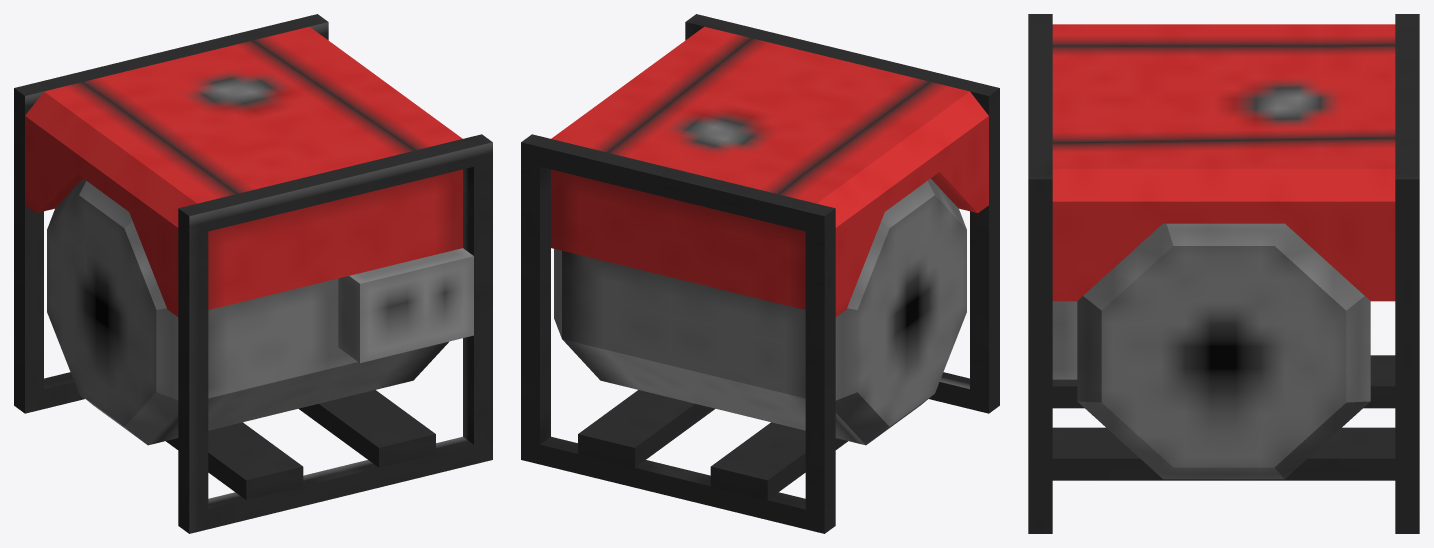
The model's file is liquid_compressor.obj.
3 views of the same model, side by side, from view 1: azimuth 30°, elevation 25°; view 2: azimuth 150°, elevation 25°; view 3: azimuth 270°, elevation 25° (orthographic). The views are drawn at different scales.
Visible parts, largest first — view 1: Tank, Frame, Gen, Box; view 2: Tank, Frame, Gen; view 3: Tank, Gen, Frame, Box.
Boxes of the visible parts, bbox=[...] form: Tank: bbox=[25, 26, 462, 316]; Frame: bbox=[14, 14, 492, 533]; Gen: bbox=[47, 178, 449, 445]; Box: bbox=[338, 248, 473, 363]; Tank: bbox=[551, 26, 988, 316]; Frame: bbox=[521, 14, 999, 533]; Gen: bbox=[554, 178, 966, 445]; Tank: bbox=[1052, 24, 1395, 301]; Gen: bbox=[1077, 223, 1370, 479]; Frame: bbox=[1028, 14, 1419, 533]; Box: bbox=[1052, 301, 1077, 379].
Bounding box in the file's own units: 16 × 16 × 16.
